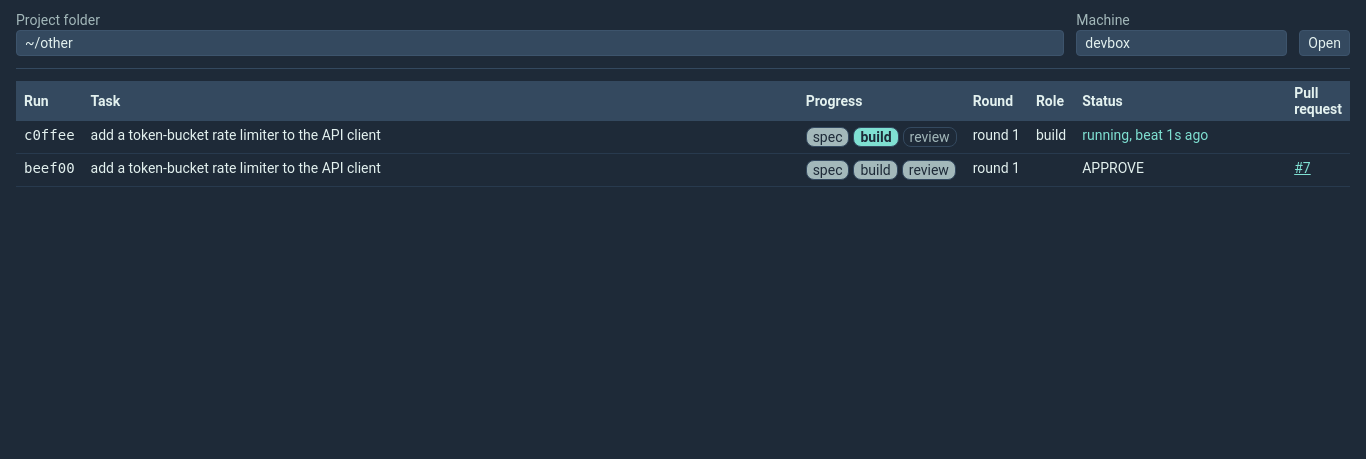
the run detail › renders the newest handoff file as Markdown, without its raw HTML
What coordinates should you click on to do the following:
click the row that starts with "c0ffee"
I would click on:
 (683, 137)
Its box is [16, 121, 1350, 154].
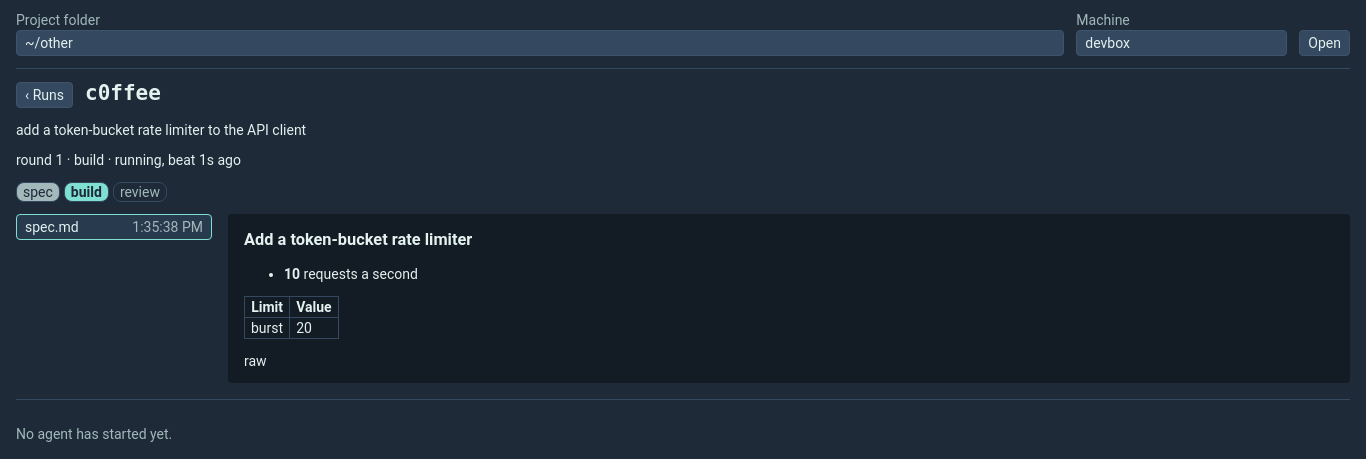
Expected: the heading "Add a token-bucket rate limiter" is shown, [244, 230, 472, 249]
Now the cell "20" is shown, box [290, 317, 338, 338]
